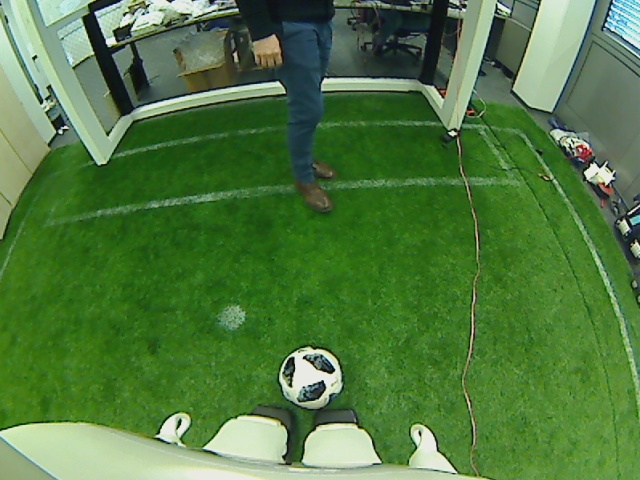ball: (277, 344, 343, 408)
